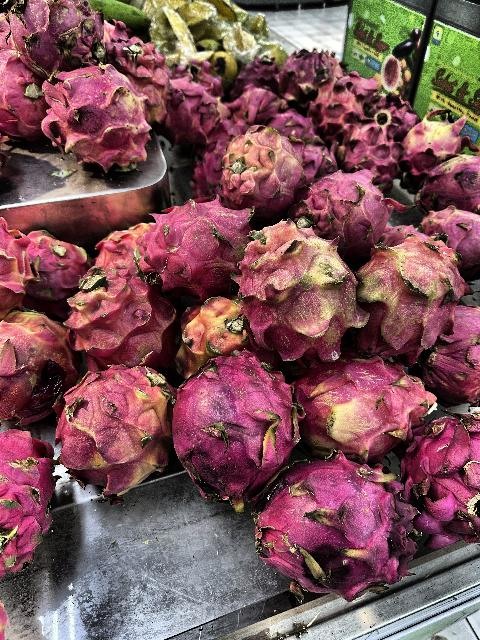buah-naga-belum-matang: (236, 222, 364, 356), (48, 368, 174, 492), (351, 222, 461, 354), (286, 361, 430, 453), (46, 70, 152, 170), (60, 284, 180, 366), (0, 307, 82, 413), (217, 127, 299, 205), (168, 301, 260, 361), (399, 112, 467, 178), (25, 230, 87, 302), (1, 47, 46, 141), (412, 156, 480, 212), (0, 218, 40, 310)
buah-naga-matang: (250, 462, 420, 598), (171, 352, 301, 498), (394, 412, 480, 546), (132, 204, 248, 290), (0, 428, 60, 574), (294, 165, 388, 243), (100, 28, 176, 122), (3, 0, 102, 66), (428, 304, 480, 398), (161, 72, 219, 140), (334, 124, 398, 180), (273, 42, 335, 94), (305, 78, 361, 128), (358, 93, 420, 133), (260, 112, 328, 146), (226, 85, 290, 119), (230, 57, 288, 91)
